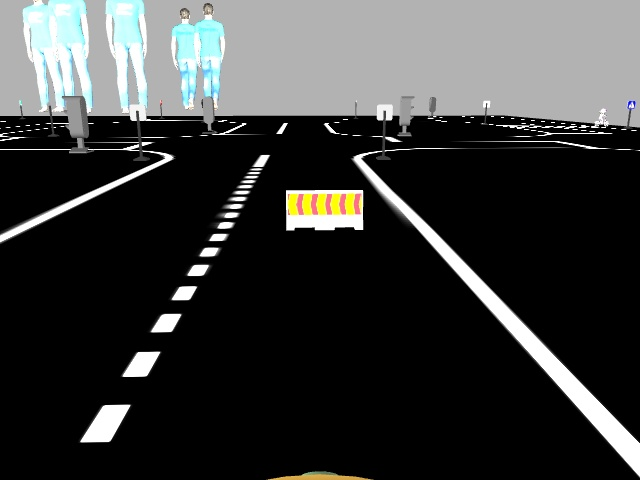ClosedRoadStand: (287, 191, 362, 227)
